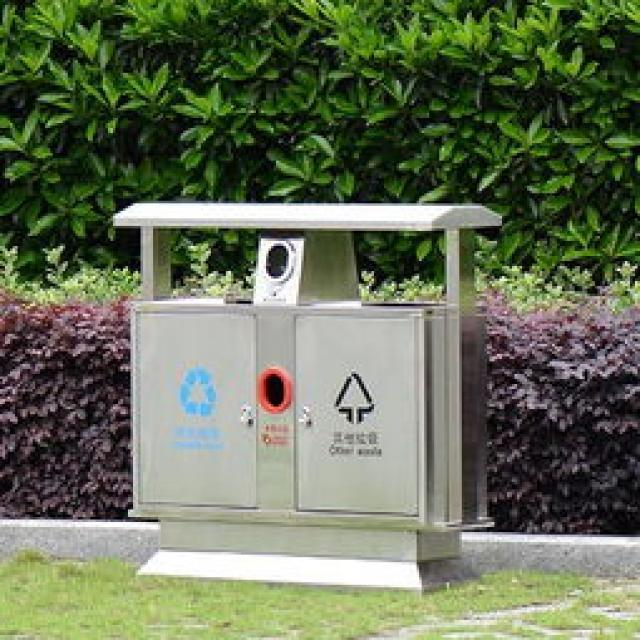garbage_bin: (110, 201, 500, 595)
